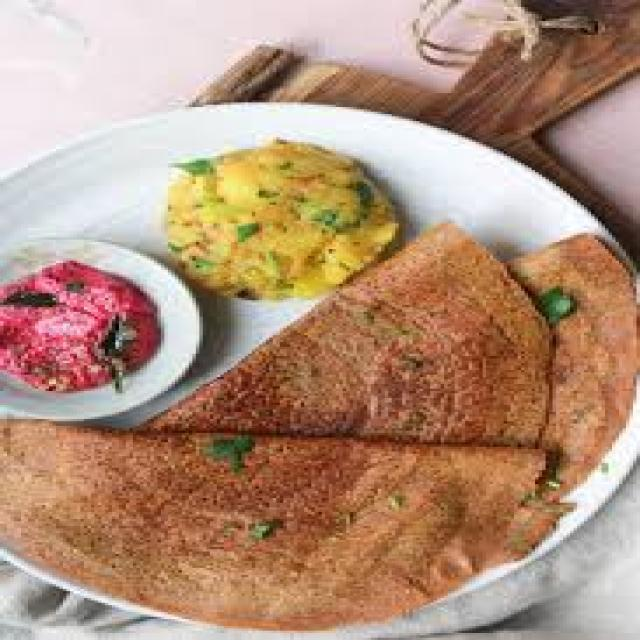DOSA: (0, 420, 542, 630), (134, 227, 561, 441), (518, 236, 637, 488)
